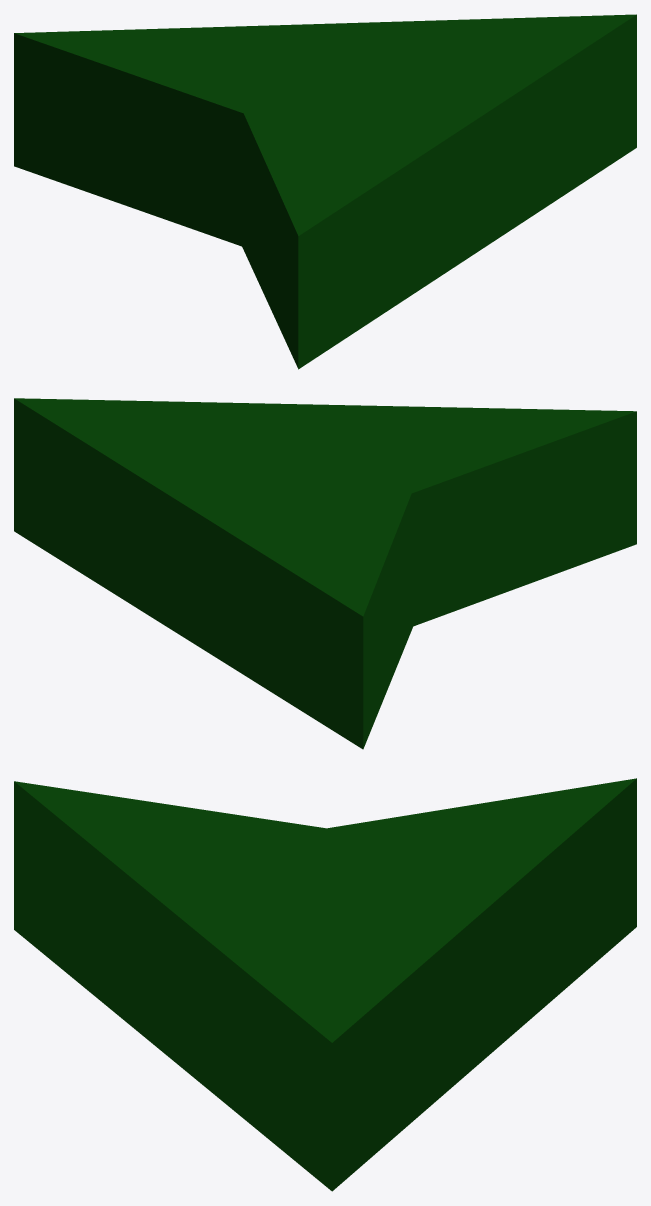
File: directional-generic-marker.dae
The picture shows the model from 3 angles, top to bottom: view 1: azimuth 30°, elevation 25°; view 2: azimuth 150°, elevation 25°; view 3: azimuth 270°, elevation 25°; orthographic projection. The views are drawn at different scales.
Parts seen in each view (by area): view 1: Box; view 2: Box; view 3: Box.
Boxes of the visible parts, x1=… form: Box: x1=14, y1=14, x2=636, y2=369; Box: x1=14, y1=398, x2=636, y2=749; Box: x1=14, y1=778, x2=636, y2=1191.
Bounding box in the file's own units: 1.01 × 0.2634 × 0.9999.
